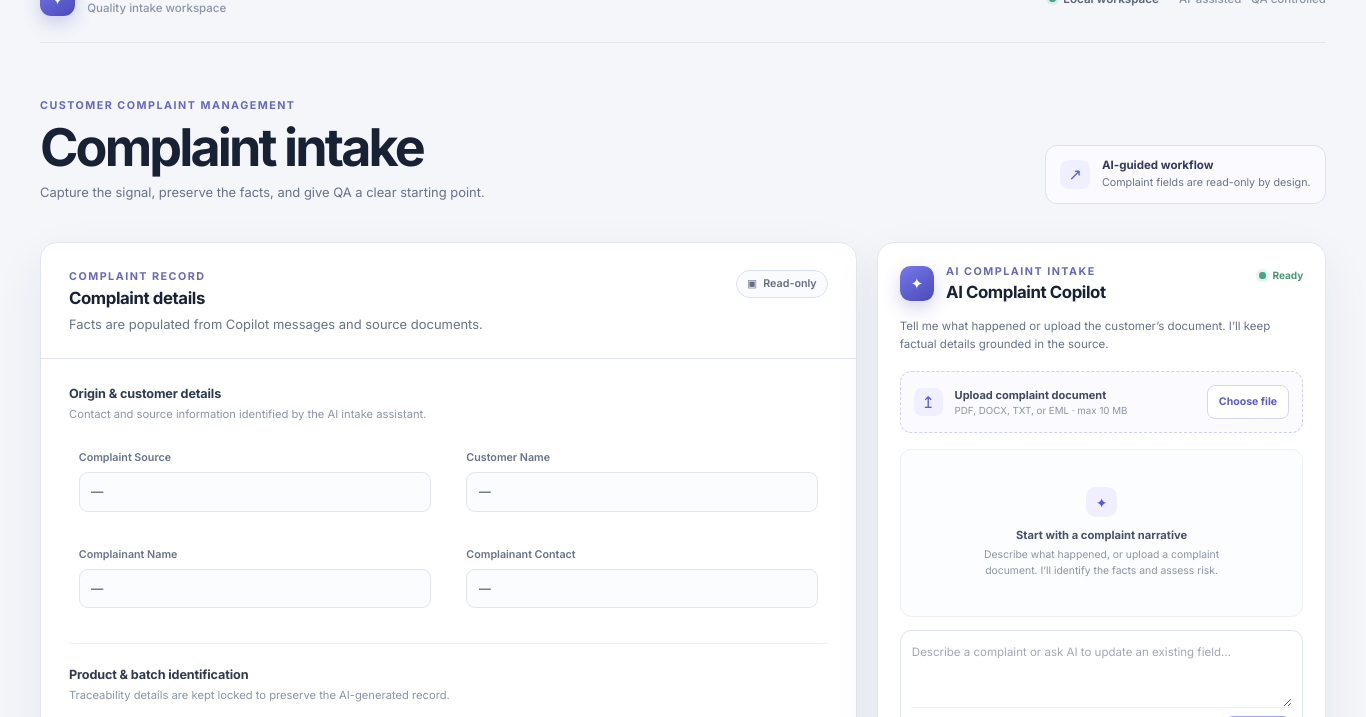
Test: ComplaintPage AI workflow › sends the current complaint for edits and preserves unrelated values
In the text box named "AI Copilot message": (1102, 674) x1=911 y1=642 x2=1292 y2=707, type "Log the complaint for ABC Pharma."
(page scrolled)
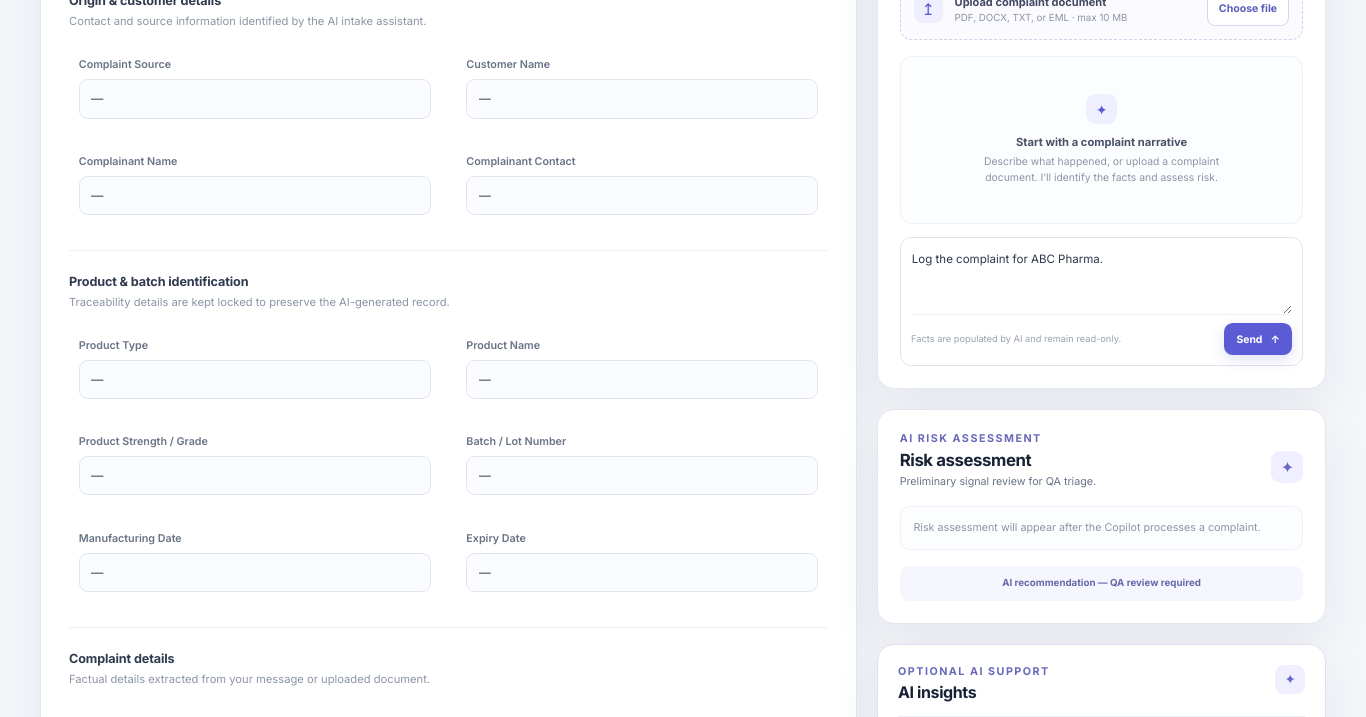
Click the button "Send ↑": (1258, 339) x1=1224 y1=323 x2=1292 y2=355
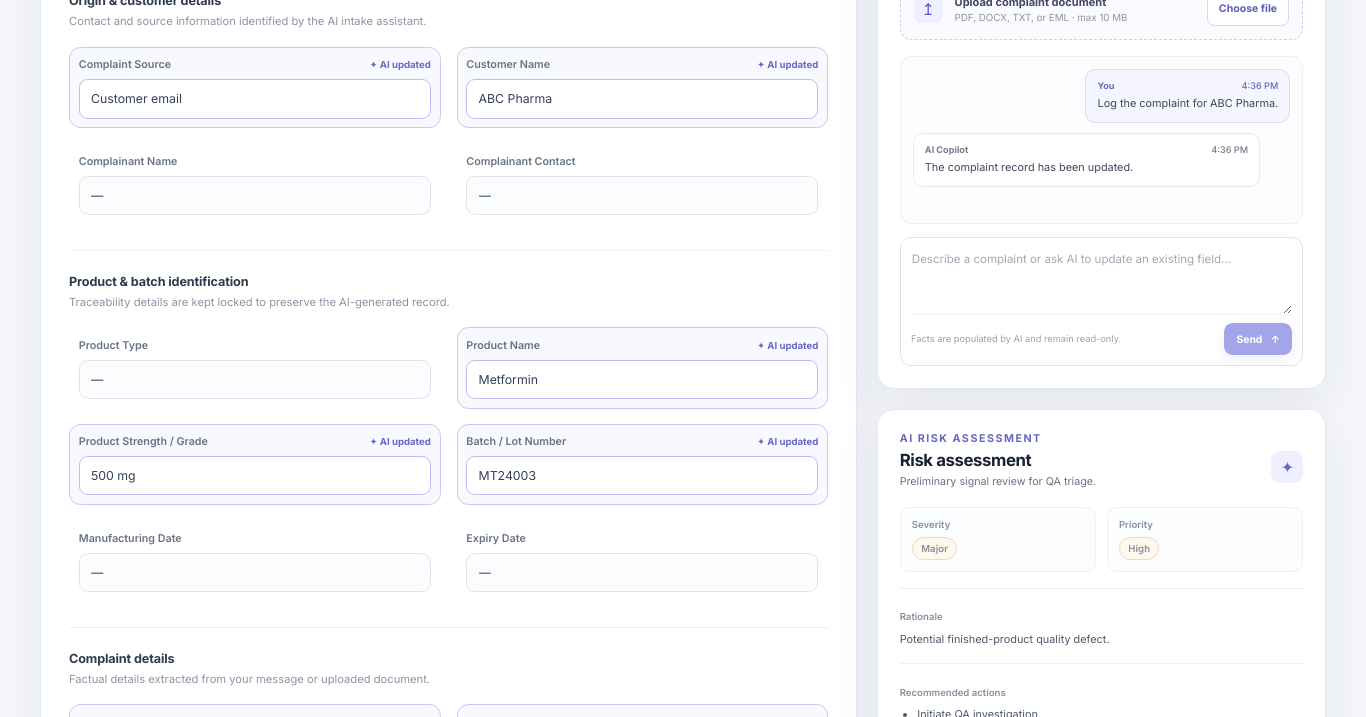
Check: the field labelled "Batch / Lot Number" holds "MT24003", box x1=466 y1=456 x2=818 y2=495
In the text box named "AI Copilot message": (1102, 281) x1=911 y1=248 x2=1292 y2=314, type "Actually change the batch to MT24004 and quantity to 500."
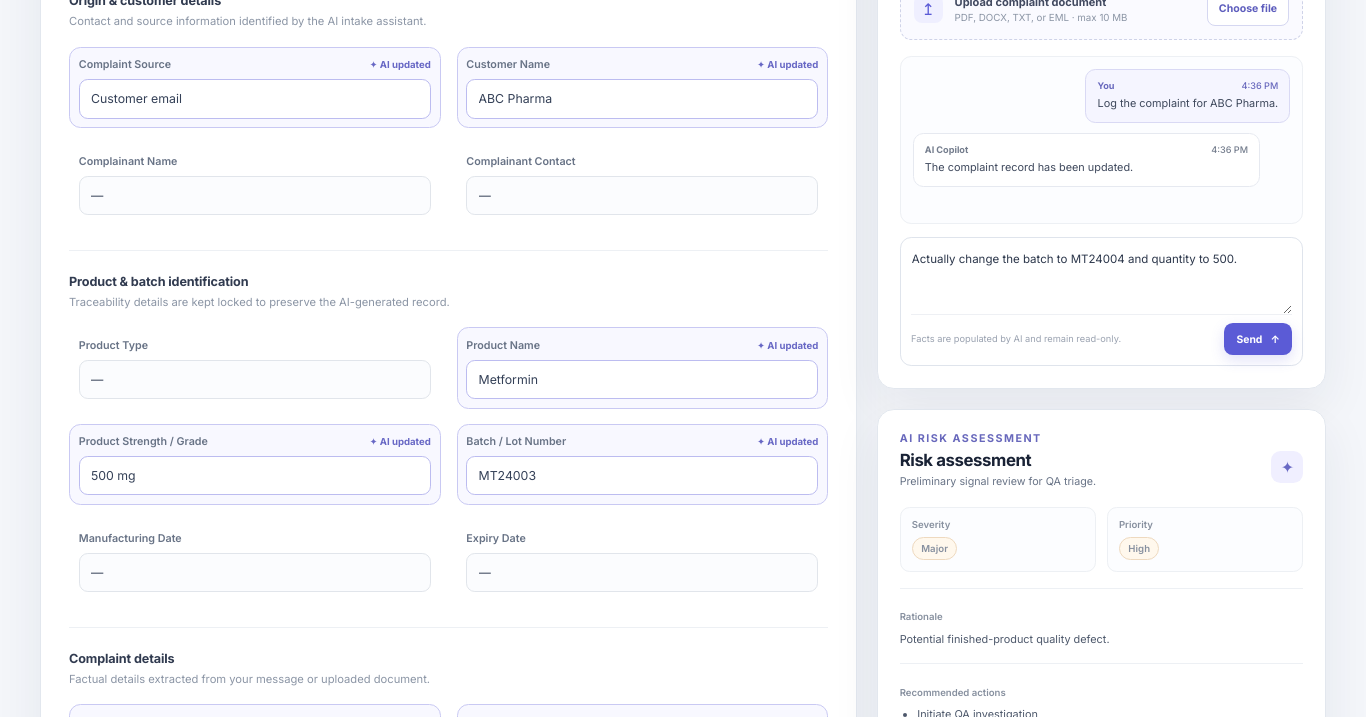
Click the button "Send ↑": (1258, 339) x1=1224 y1=323 x2=1292 y2=355
(page scrolled)
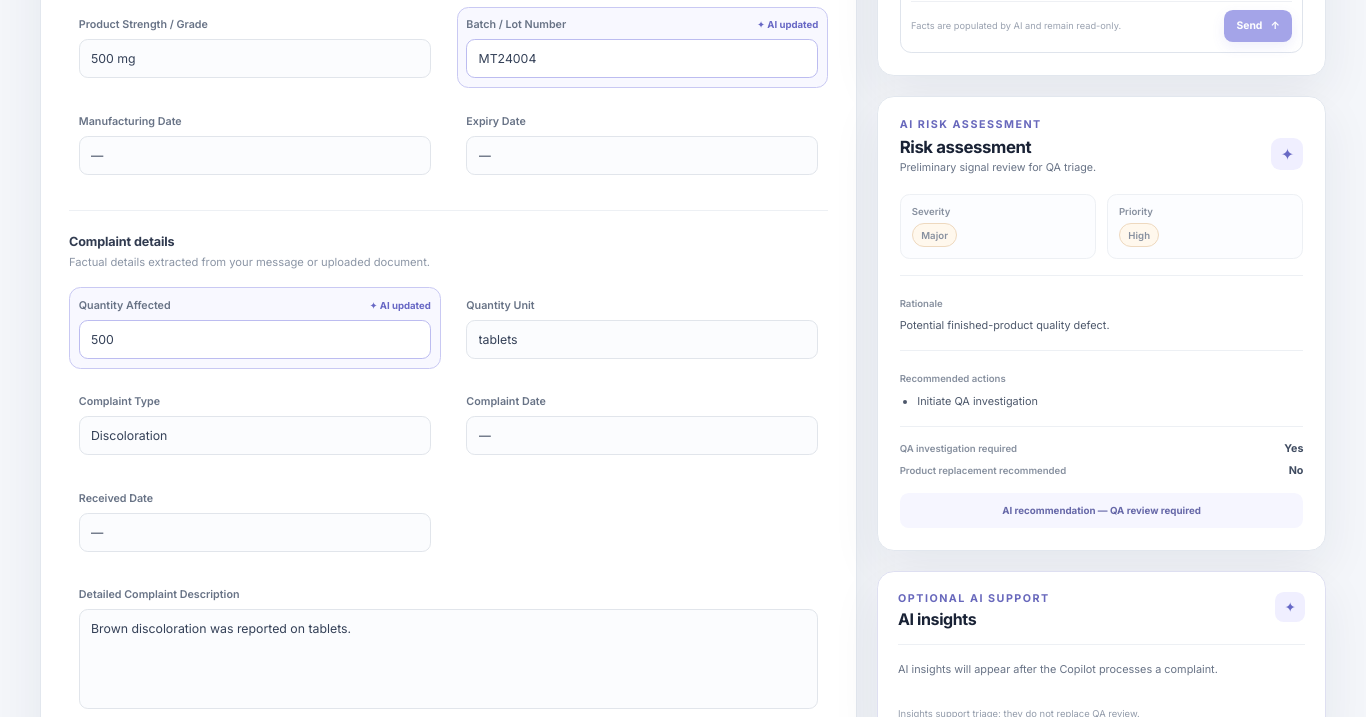
Check: the field labelled "Batch / Lot Number" holds "MT24004", box x1=466 y1=39 x2=818 y2=78
Check: the field labelled "Quantity Affected" holds "500", box x1=79 y1=320 x2=431 y2=359
